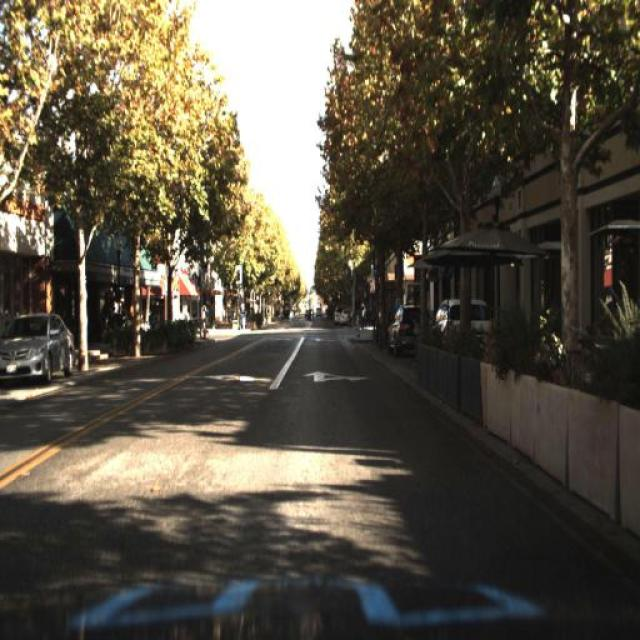car: (3, 308, 81, 392), (437, 294, 489, 352), (386, 297, 430, 355)
trafficLight: (202, 305, 206, 333)
trafficLight-RedLeft: (342, 246, 357, 280)
